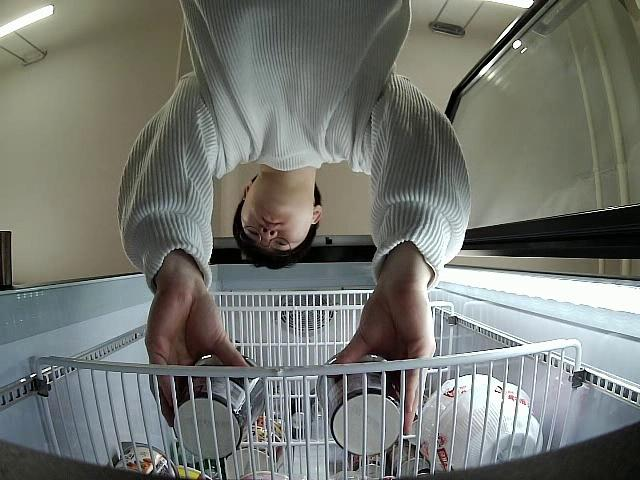00_hand: (329, 285, 436, 437), (144, 291, 251, 427)
08_buldak_S: (172, 354, 269, 459), (315, 356, 404, 456)
